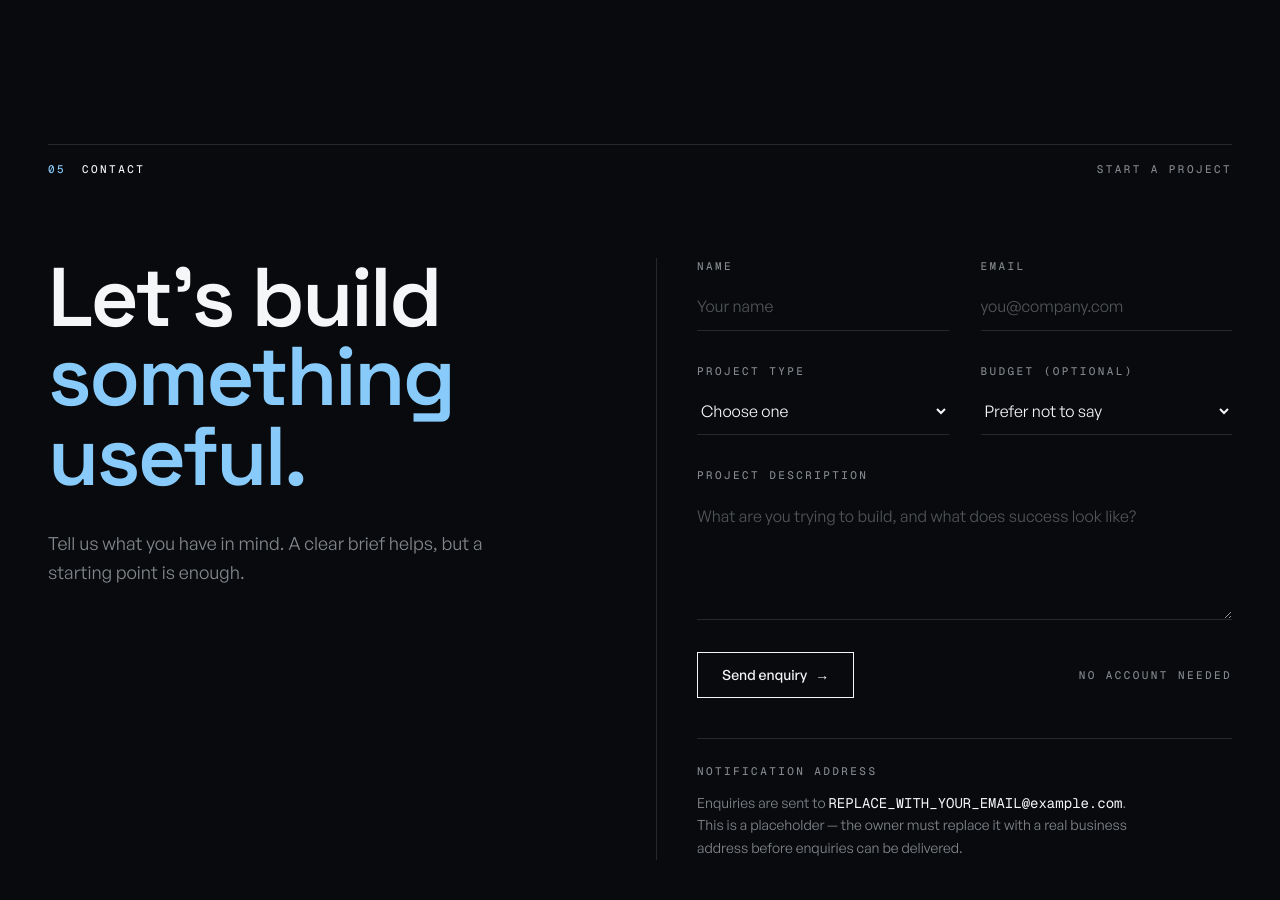
it: ContactSection › rejects a malformed email address
Type "Ada" into the field labelled "Name". click: (823, 306)
box: [697,282,948,331]
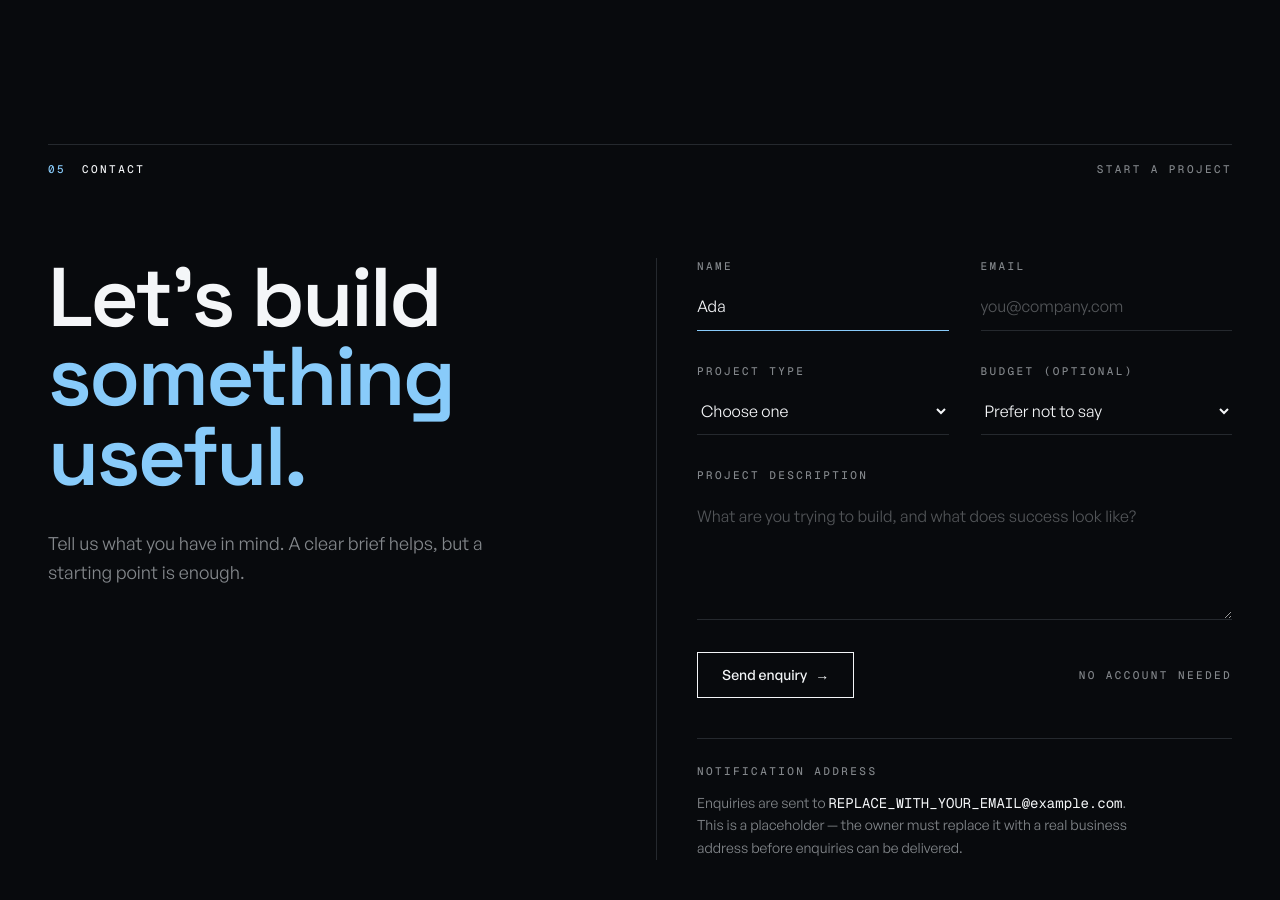
Type "not-an-email" into the field labelled "Email". click: (1106, 306)
box: [980,282,1232,331]
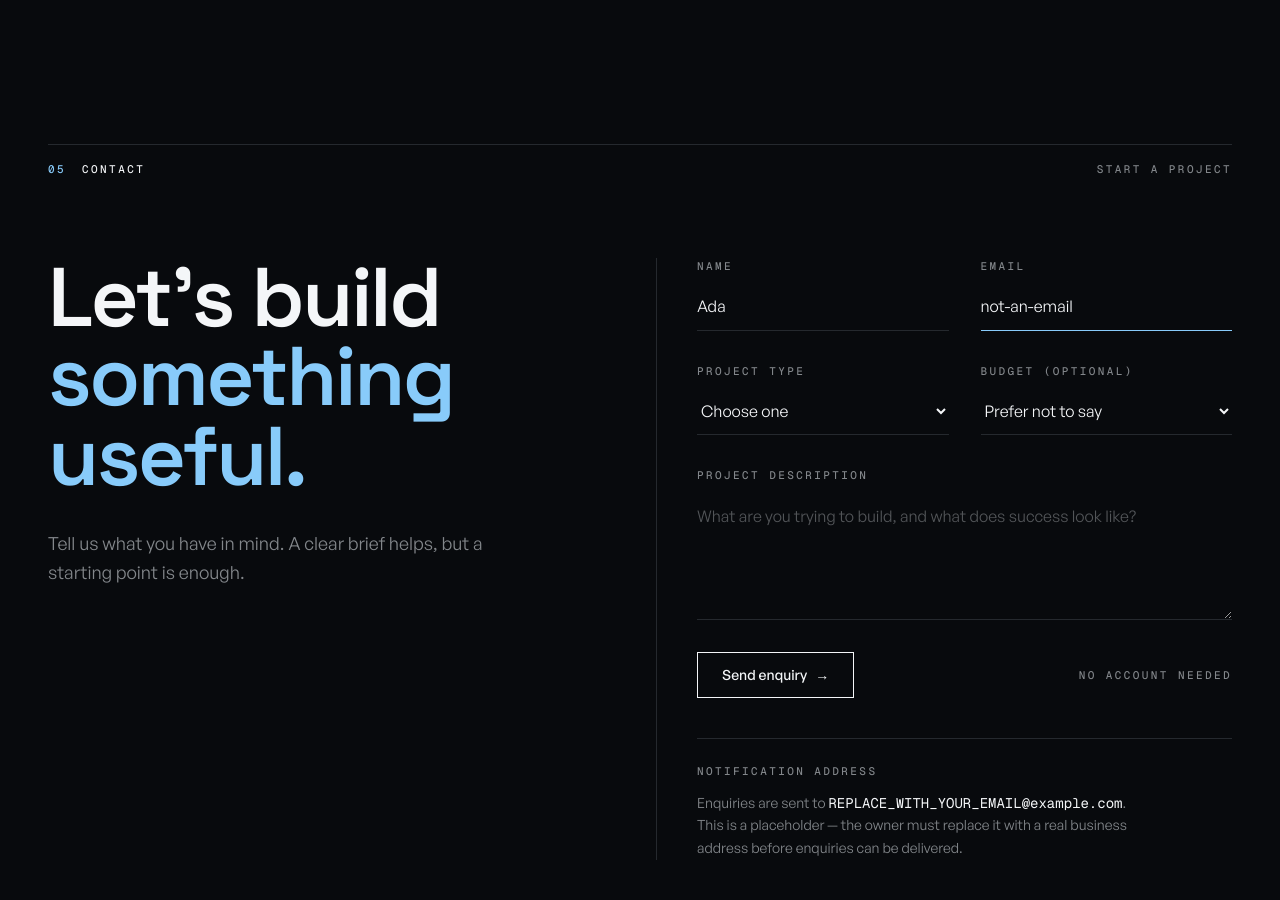
Select "Website" in the dropdown labelled "Project type". click: (823, 411)
box: [697,388,948,434]
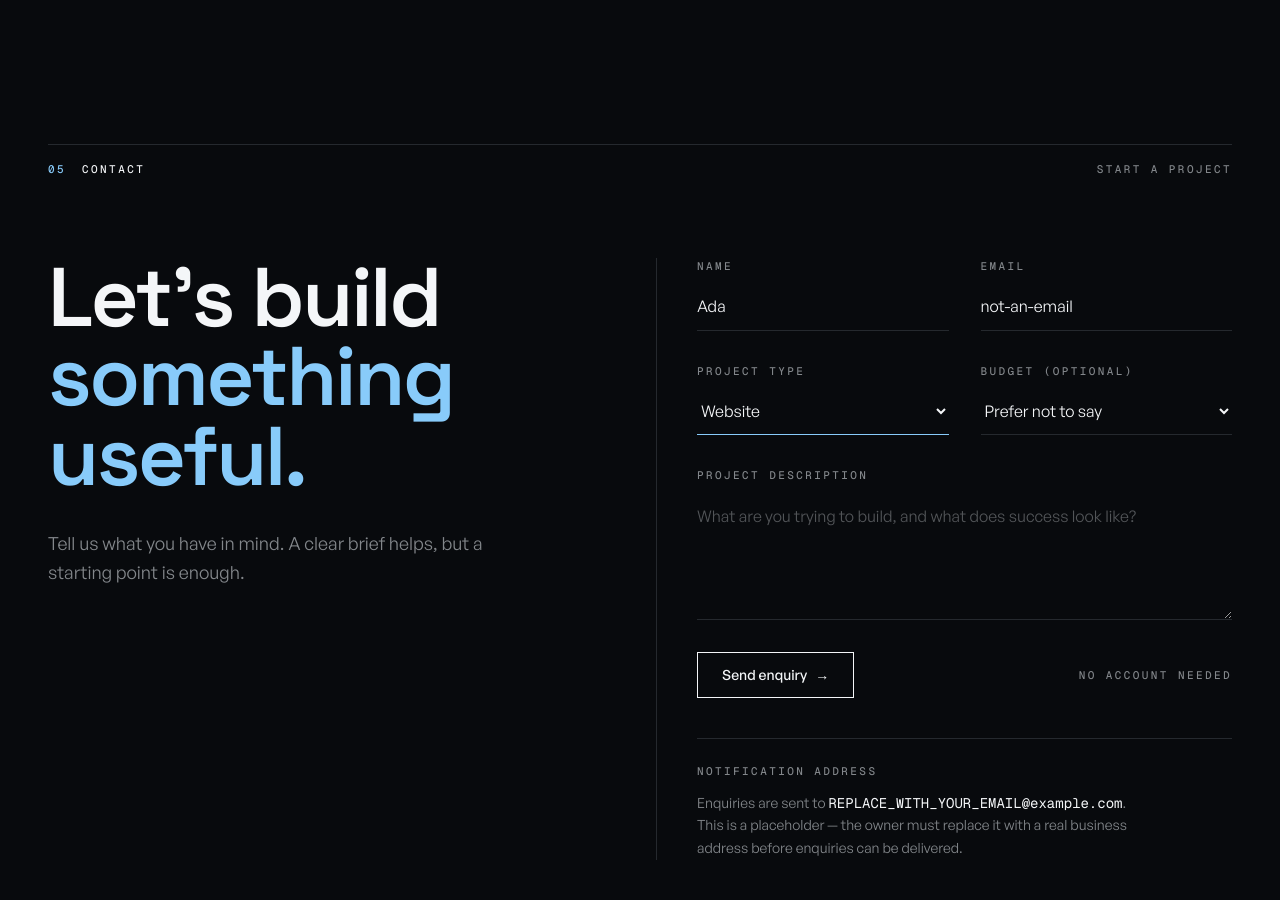
Type "Hello" into the text box labelled "Project description". click: (964, 556)
box: [697,491,1232,620]
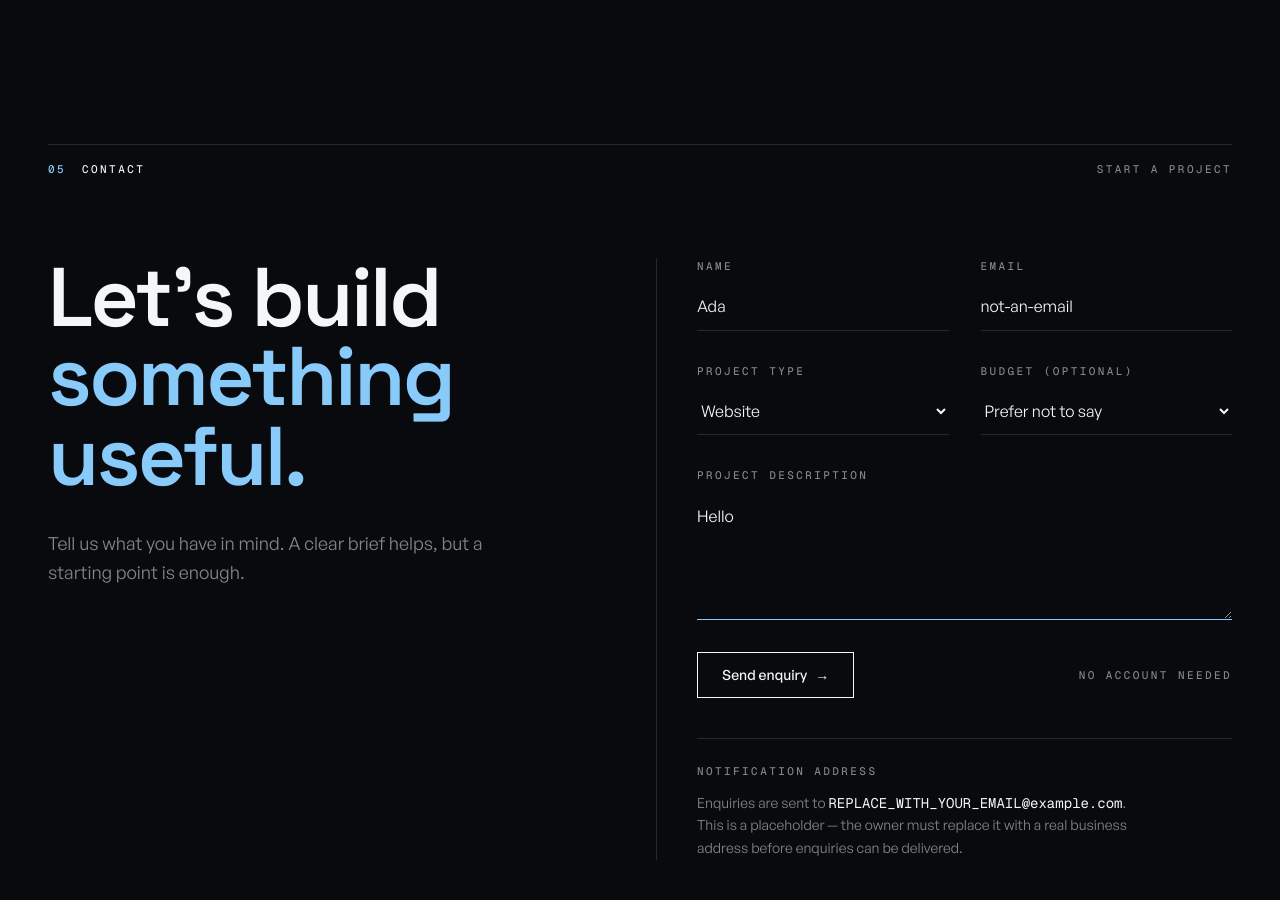
Click the button "Send enquiry →". click: (776, 675)
box: [697,652,854,698]
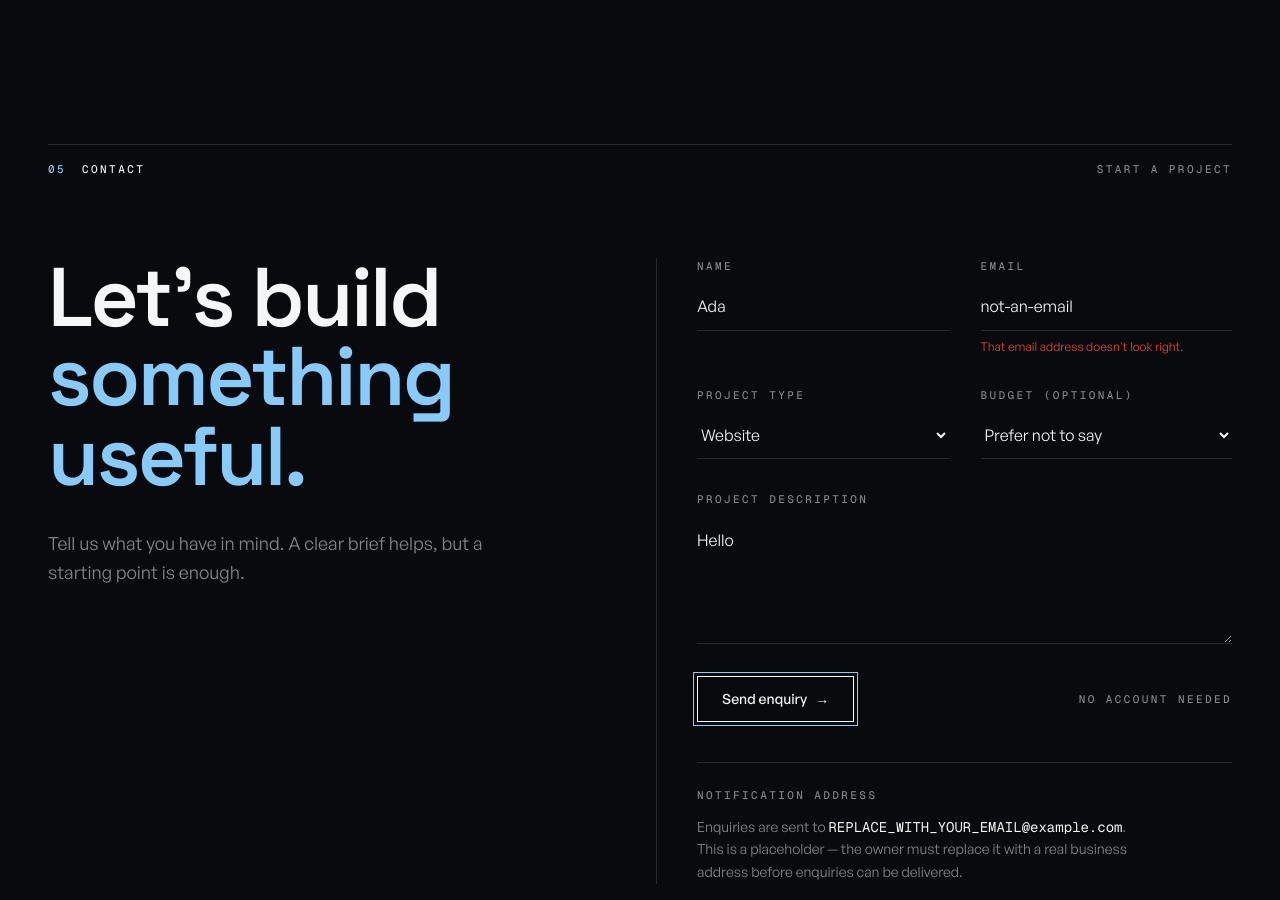
Result: the text "That email address doesn't look right." is shown at [980,339,1183,354]
